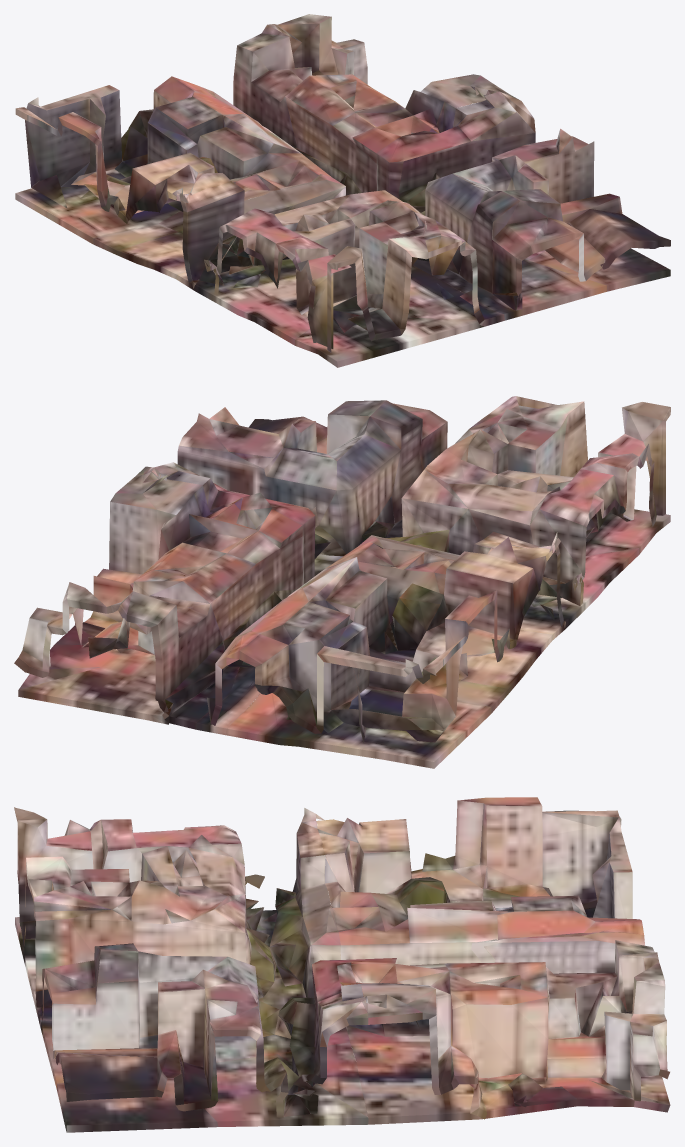
3 views of the same model, one above another, from view 1: azimuth 30°, elevation 25°; view 2: azimuth 150°, elevation 25°; view 3: azimuth 270°, elevation 25° (orthographic). The views are drawn at different scales.
Parts seen in each view (by area): view 1: Mesh_0; view 2: Mesh_0; view 3: Mesh_0.
Boxes of the visible parts, x1,y1,x2,y2 form: Mesh_0: [15, 14, 670, 367]; Mesh_0: [14, 396, 670, 768]; Mesh_0: [14, 797, 670, 1132].
Size of the model in its own units: 134 by 39.06 by 165.
1 material, 1 textured.
